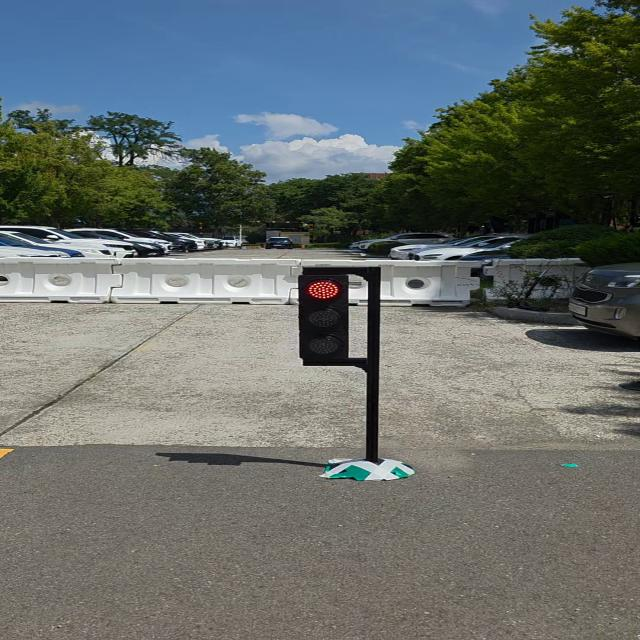red: (296, 267, 354, 368)
